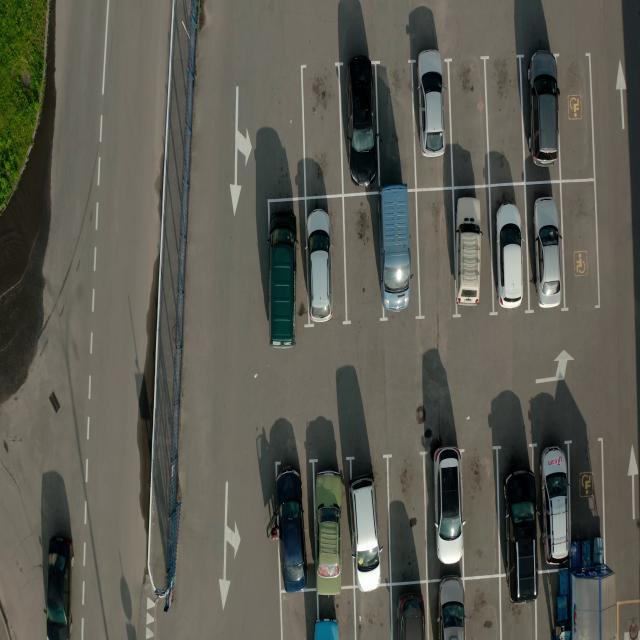vehicle: (504, 466, 538, 606), (268, 207, 298, 350), (378, 182, 410, 314), (276, 465, 308, 592), (346, 54, 376, 187), (349, 474, 382, 594), (528, 48, 559, 166), (540, 446, 570, 566), (434, 443, 462, 564), (315, 466, 343, 582), (494, 201, 524, 309), (533, 195, 561, 308), (417, 47, 445, 158), (455, 195, 482, 309), (306, 208, 332, 322), (46, 534, 73, 637), (437, 573, 464, 640), (398, 592, 425, 640), (313, 618, 339, 640), (570, 537, 582, 571), (270, 522, 280, 540)
